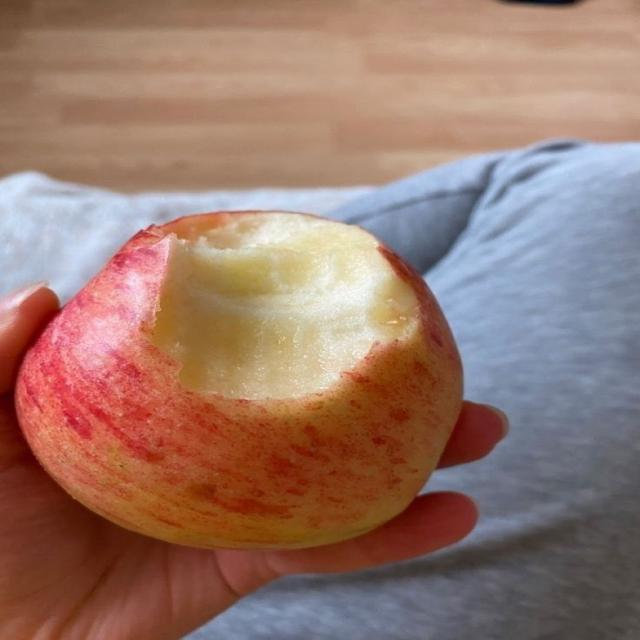apple: (17, 212, 461, 548)
